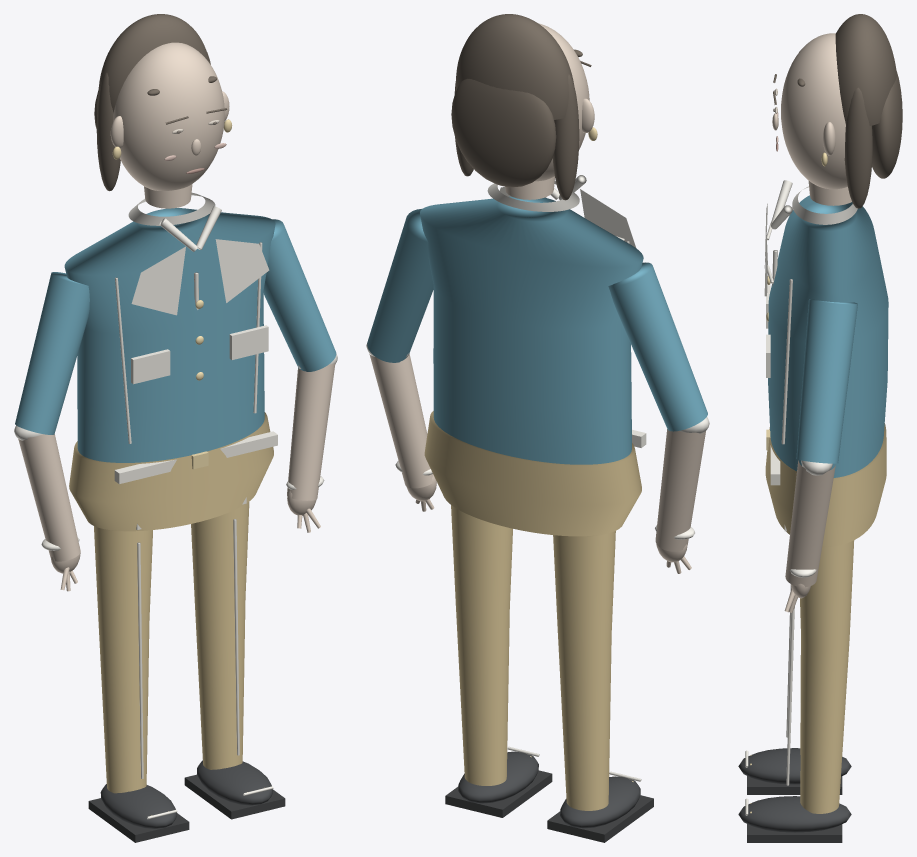
The model's file is female-tailored.glb.
3 views of the same model, side by side, from view 1: azimuth 30°, elevation 25°; view 2: azimuth 150°, elevation 25°; view 3: azimuth 270°, elevation 25° (orthographic). The views are drawn at different scales.
Parts seen in each view (by area): view 1: StyleFit Parametric Digital Human; view 2: StyleFit Parametric Digital Human; view 3: StyleFit Parametric Digital Human.
Boxes of the visible parts, bbox=[...] form: StyleFit Parametric Digital Human: bbox=[14, 14, 337, 842]; StyleFit Parametric Digital Human: bbox=[366, 14, 709, 842]; StyleFit Parametric Digital Human: bbox=[738, 14, 902, 842].
Size of the model in its own units: 0.9376 by 2.14 by 0.4058.
